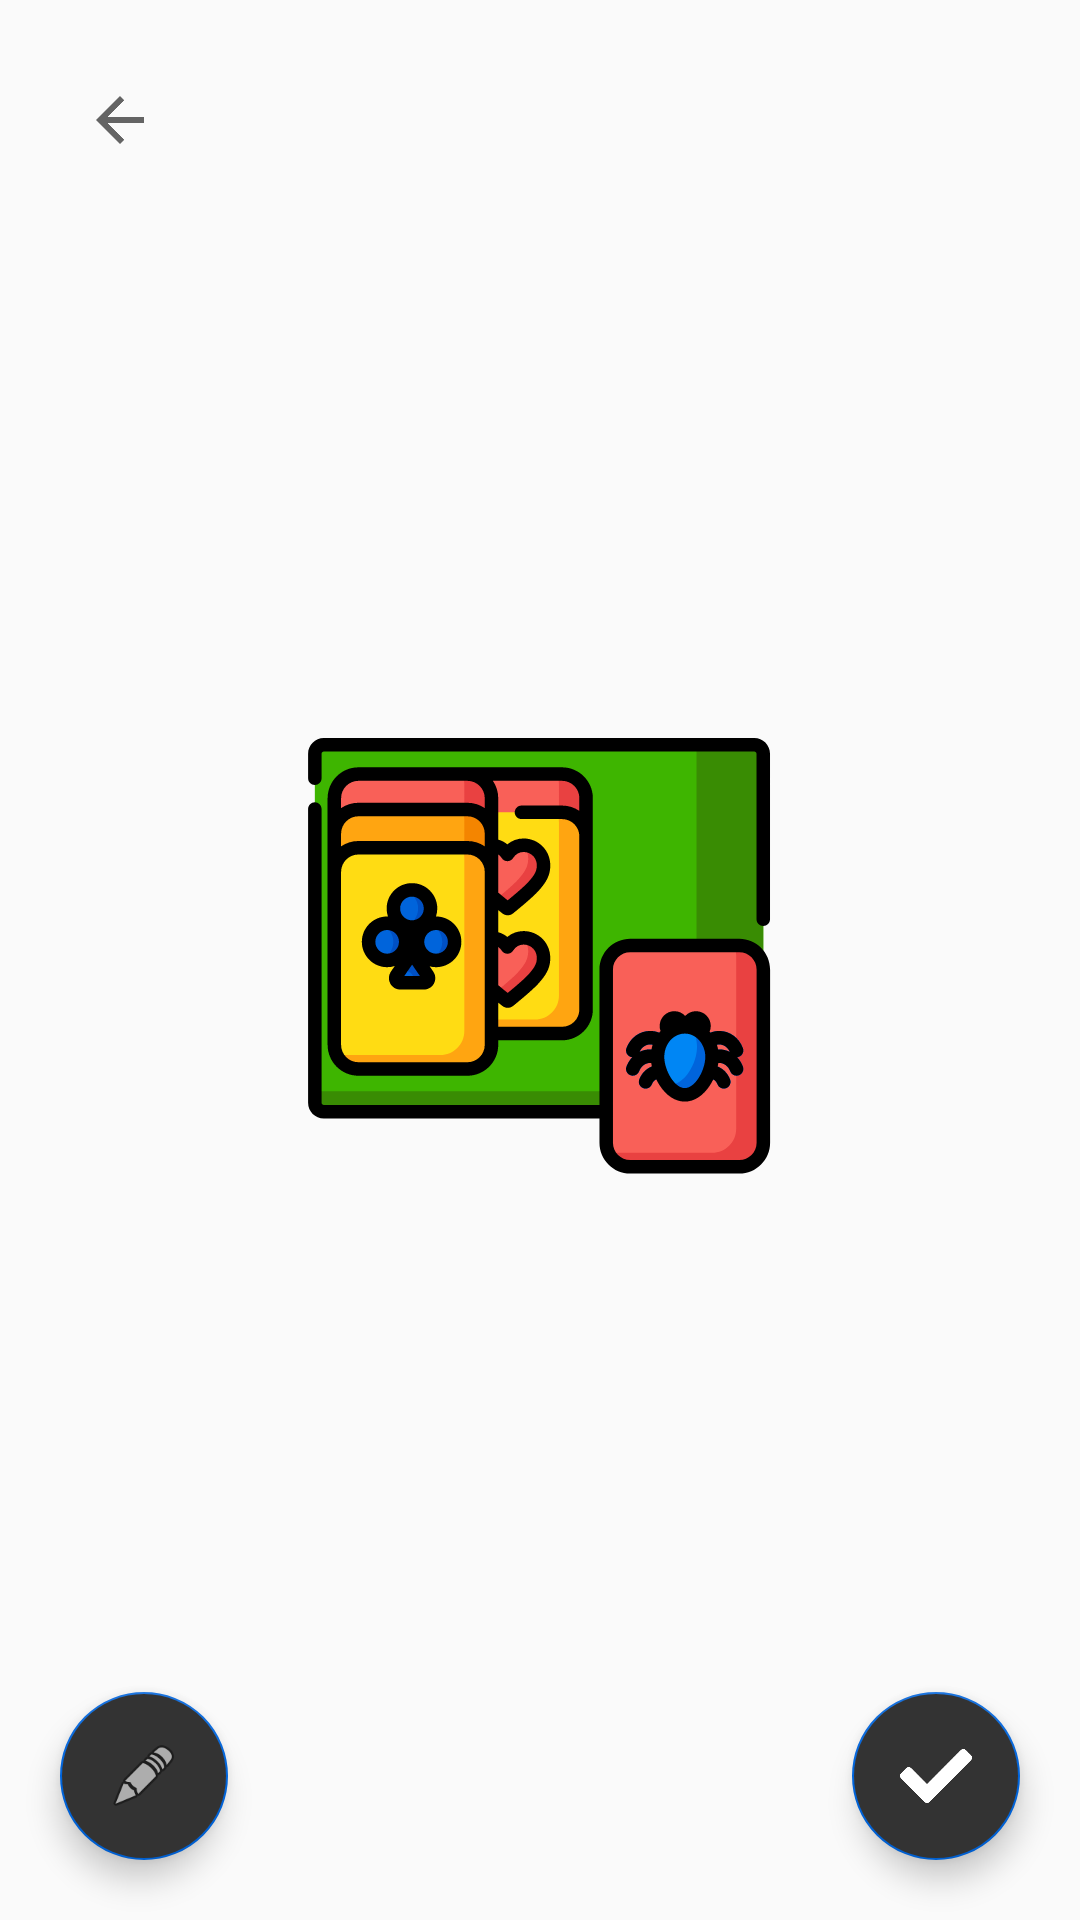

Where to tap for icons on this 1080px×1920px app screen, as (x,y):
awesome check: (936,1776)
edit: (144,1776)
